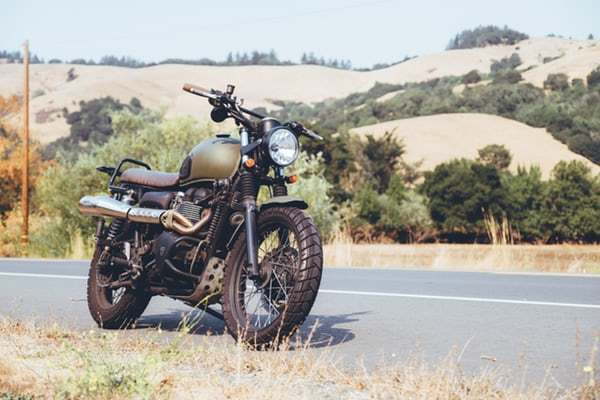16_label: (43, 73, 349, 349)
